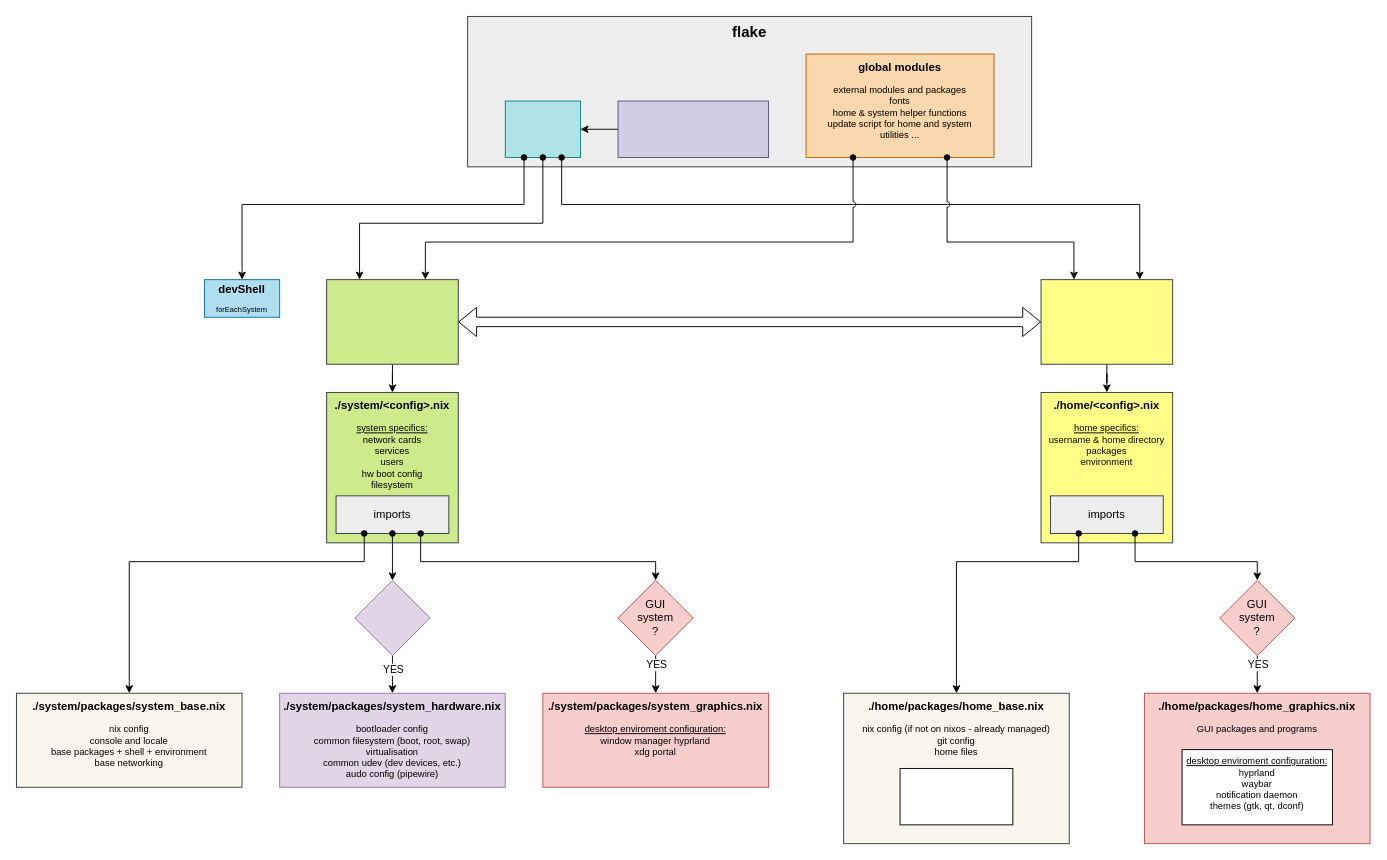
Image size: 1387x860. Some labels were removed from this diagram. The centre of each missing label's shape, as x and y in pixels:
"common packages: home.packages modules" belongs at (956,796).
"homeConfigurations matej-nixbox matej-nixtop matej-testbox nixos-wsl" belongs at (1106,321).
"is computer ?" belongs at (392,618).
"nixosConfigurations nixbox nixtop testbox wsl" belongs at (392,321).
"outputs" belongs at (542,128).
"overlays add/modify packages to nixpkgs" belongs at (692,128).
